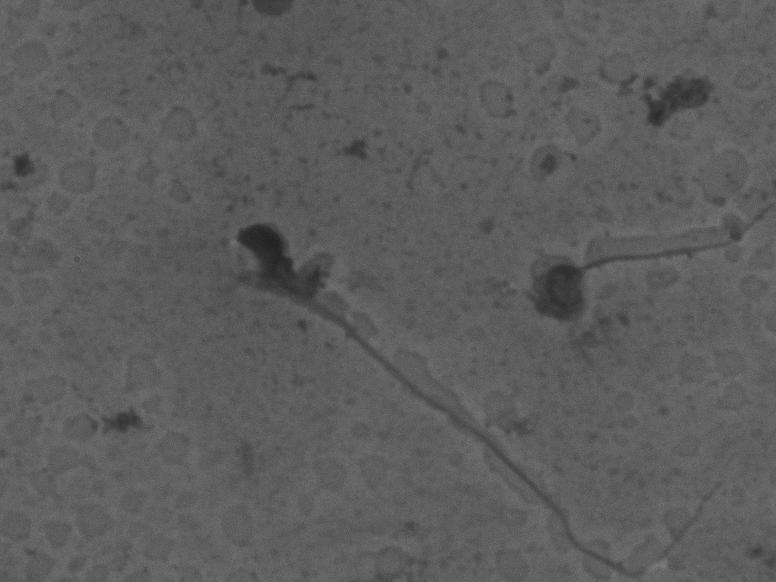Abnormal: (167, 176, 745, 575)
